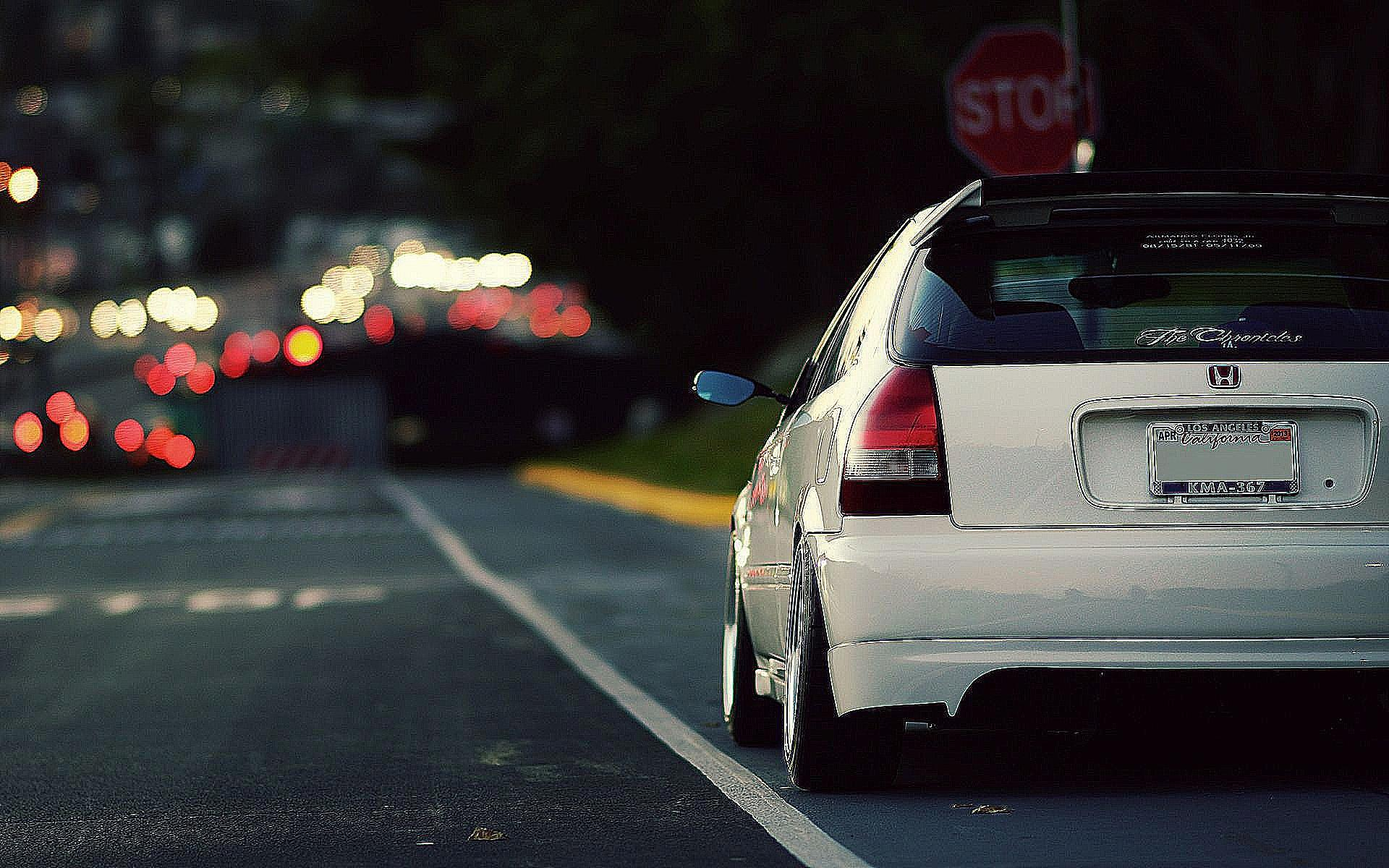Car boot: (926, 360, 1389, 522)
Rear bumper: (809, 521, 1389, 754)
Rear light - -L-: (836, 360, 958, 518)
Side mirror - -L-: (690, 365, 782, 416)
